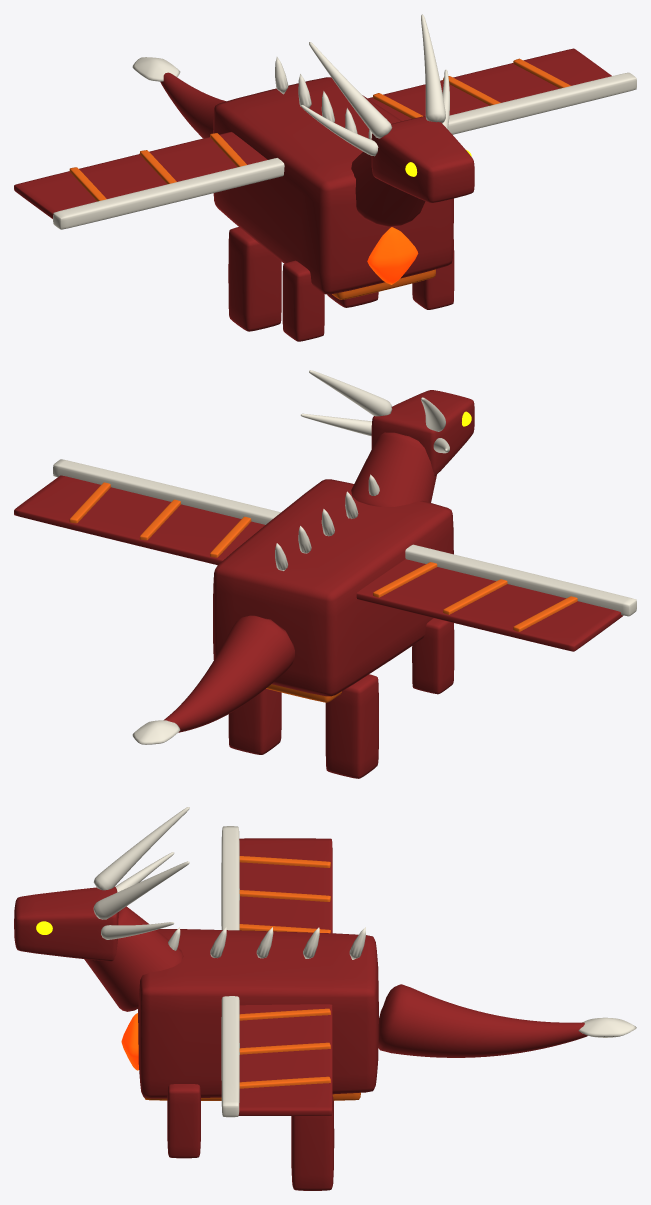
The model's file is dragon.glb.
3 views of the same model, one above another, from view 1: azimuth 30°, elevation 25°; view 2: azimuth 150°, elevation 25°; view 3: azimuth 270°, elevation 25° (orthographic).
Parts seen in each view (by area): view 1: Body, Head, LeftWing, RightWing, LeftLeg, LeftArm, Tail, RightArm; view 2: Body, LeftWing, RightWing, Head, Tail, LeftLeg, RightLeg, LeftArm; view 3: Body, Head, RightWing, LeftWing, Tail, RightLeg, RightArm.
Part boxes in pixels (bbox=[...]): Body: bbox=[213, 57, 453, 299]; Head: bbox=[300, 14, 474, 227]; LeftWing: bbox=[14, 132, 284, 229]; RightWing: bbox=[368, 48, 636, 134]; LeftLeg: bbox=[228, 227, 281, 331]; LeftArm: bbox=[282, 260, 324, 341]; Tail: bbox=[132, 57, 225, 138]; RightArm: bbox=[412, 239, 454, 309]; Body: bbox=[213, 474, 453, 702]; LeftWing: bbox=[356, 544, 636, 651]; RightWing: bbox=[14, 459, 280, 565]; Head: bbox=[300, 370, 474, 506]; Tail: bbox=[132, 615, 294, 744]; LeftLeg: bbox=[325, 674, 378, 778]; RightLeg: bbox=[228, 689, 281, 754]; LeftArm: bbox=[412, 618, 454, 694]; Body: bbox=[121, 927, 378, 1100]; Head: bbox=[14, 807, 189, 1011]; RightWing: bbox=[221, 996, 332, 1117]; LeftWing: bbox=[221, 826, 332, 933]; Tail: bbox=[378, 984, 636, 1057]; RightLeg: bbox=[291, 1096, 334, 1190]; RightArm: bbox=[167, 1084, 200, 1158].
Bounding box in the file's own units: 4.28 × 2.33 × 4.02.
